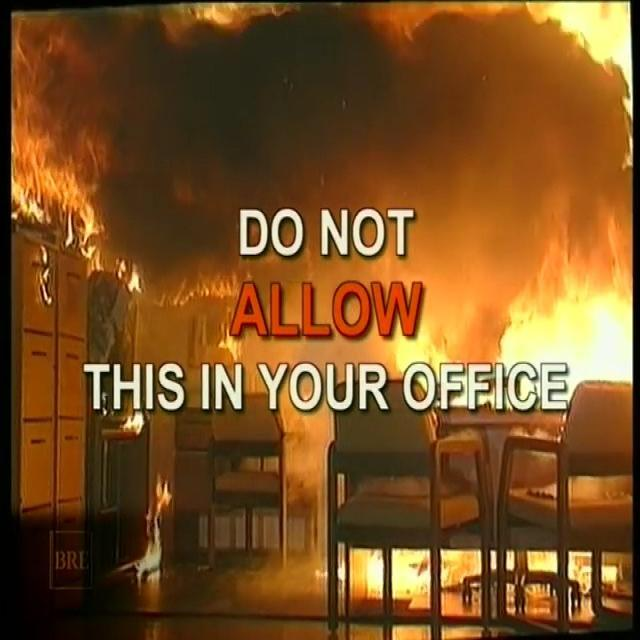Fire: (17, 8, 638, 430)
